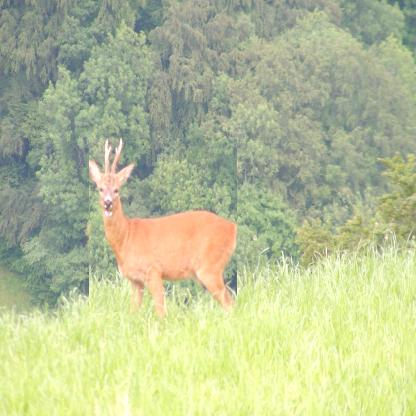Deer: (89, 138, 237, 318)
